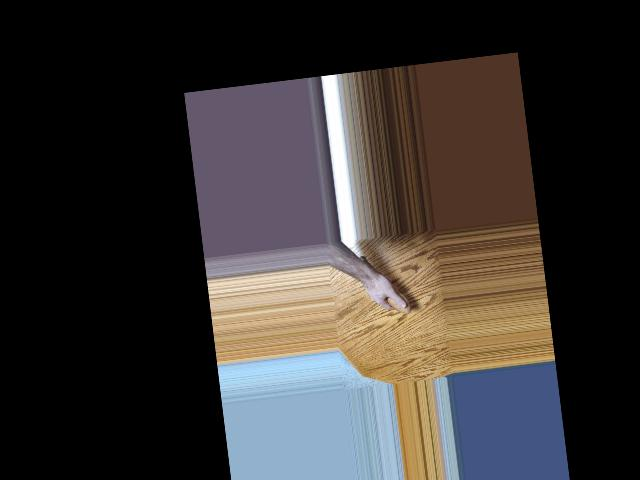sweet_potato: (354, 247, 411, 319)
